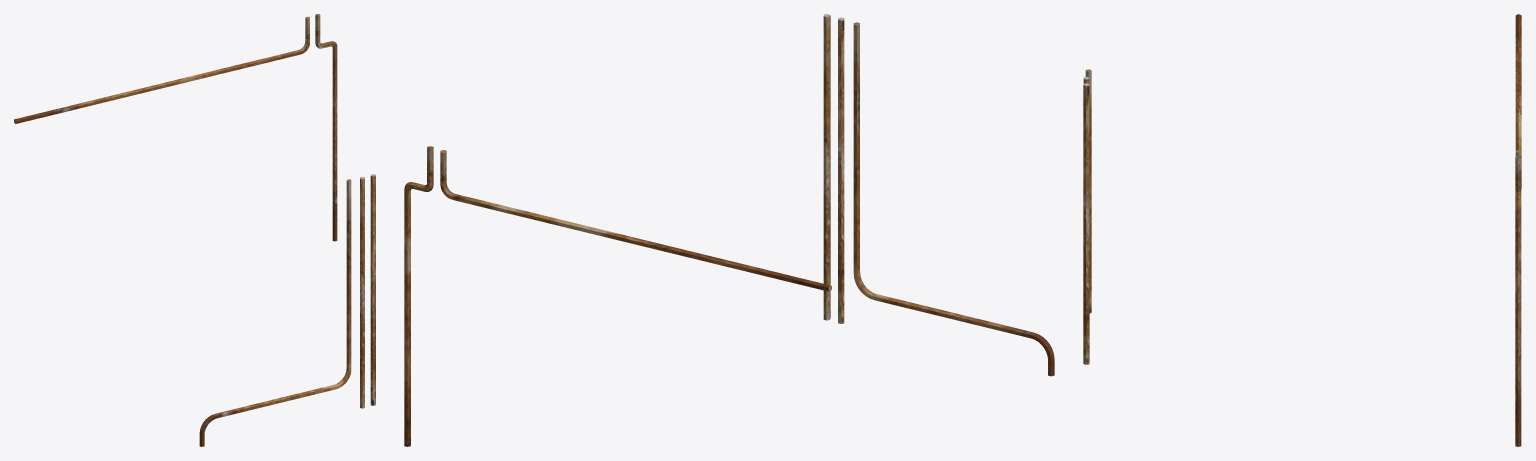
Rendered from torture_room_pipes.FBX.
3 renders of one model, left to right at view 1: azimuth 30°, elevation 25°; view 2: azimuth 150°, elevation 25°; view 3: azimuth 270°, elevation 25°, orthographic. The views are drawn at different scales.
Parts seen in each view (by area): view 1: torture_room_pipes; view 2: torture_room_pipes; view 3: torture_room_pipes.
Part boxes in pixels (x1,y1,x2,y2): torture_room_pipes: (14,14,375,446); torture_room_pipes: (404,14,1054,446); torture_room_pipes: (1083,14,1521,446).
Size of the model in its own units: 411 by 280 by 398.
